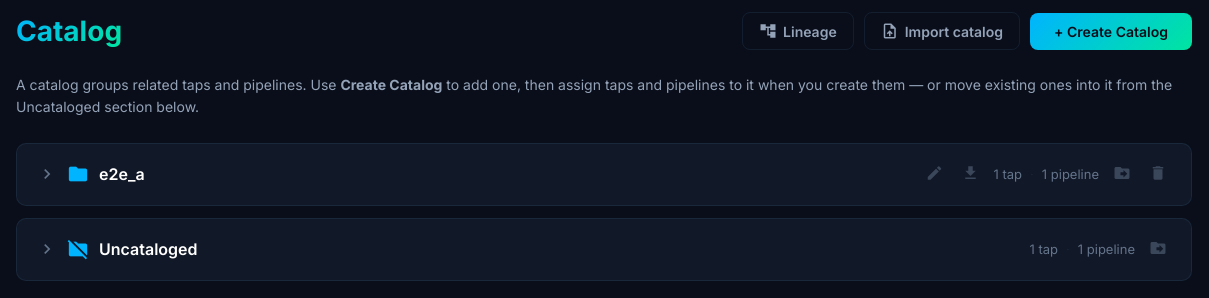
Test case: DataCatalogComponent — catalog rename and delete › the rename editor shows the name rule
Expected: the element with class "catalog-card" showing "e2e_a 1 tap · 1 pipeline" is shown, [16, 143, 1192, 206]
Click the button with class "rename-catalog-btn" at (935, 174), box [922, 160, 948, 189]
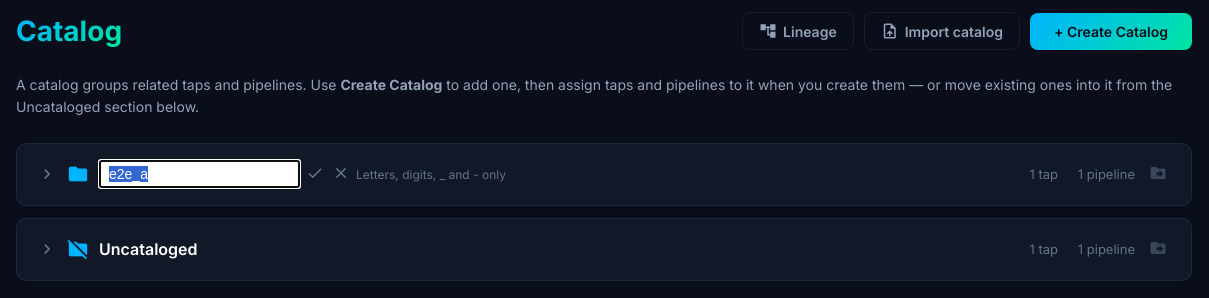
Expected: the element with class "catalog-card" that starts with "Letters, digits, _ and - only" is shown, [16, 143, 1192, 206]
Result: the field with class "rename-catalog-input" is shown at [99, 160, 300, 188]
Result: the text with class "rename-rule" reads "Letters, digits, _ and - only" at [356, 167, 506, 182]
